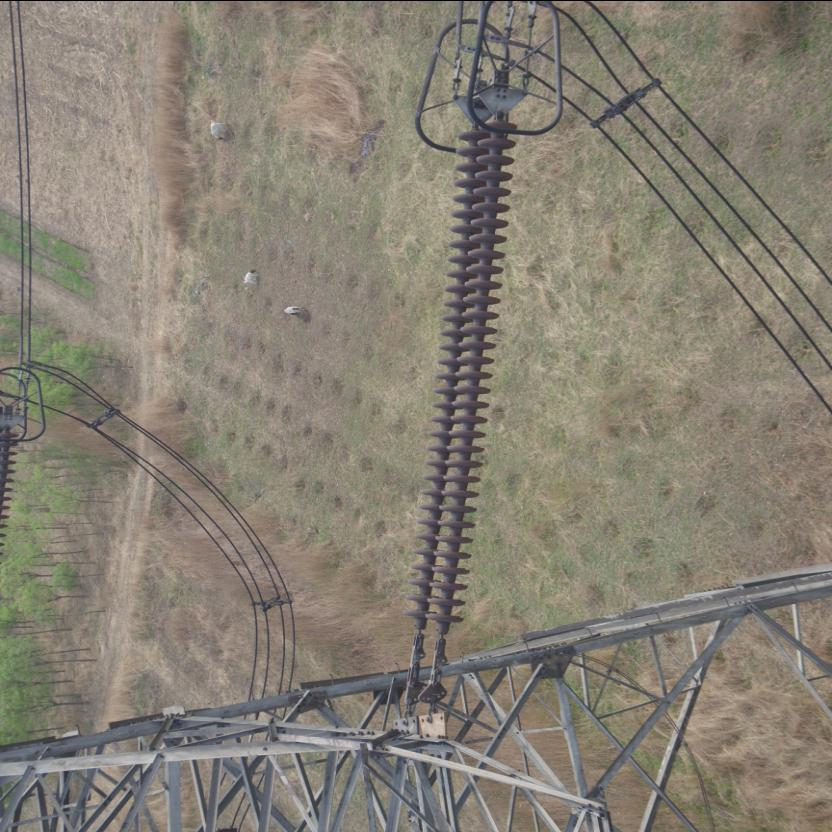insulator: (396, 96, 522, 672)
